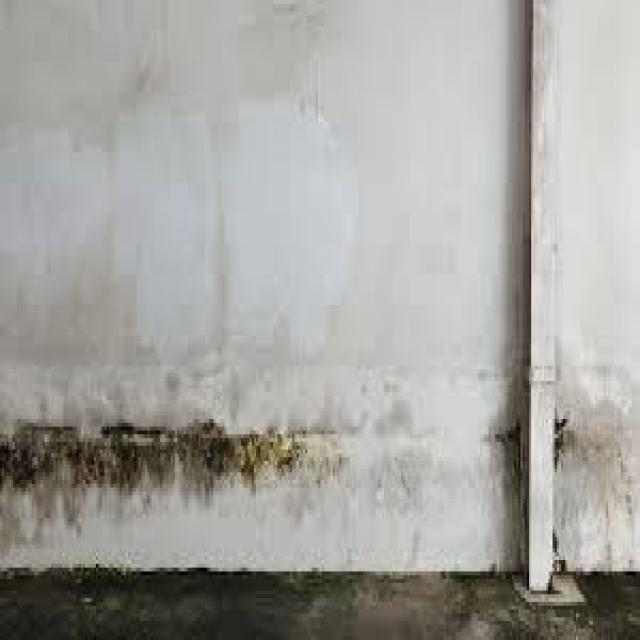dampness: (0, 417, 345, 521), (553, 405, 639, 563)
